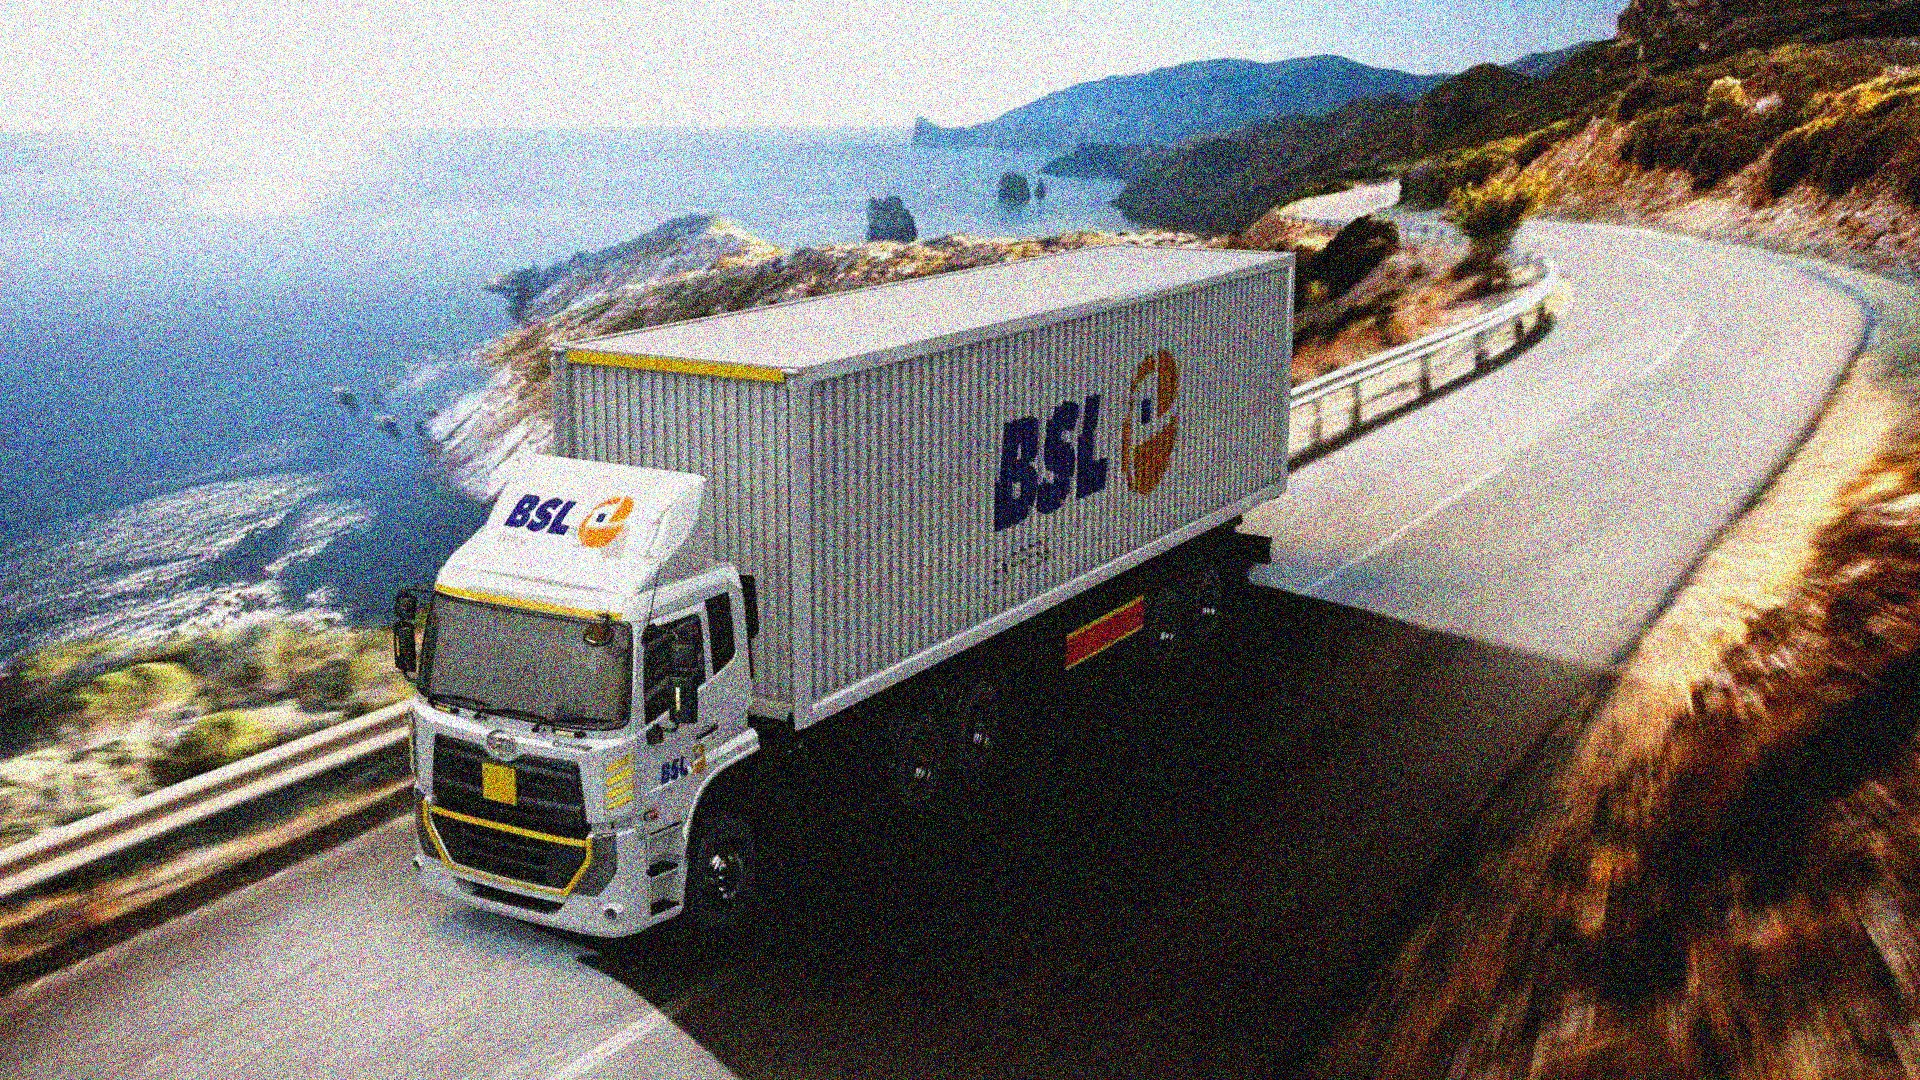truck: (409, 247, 1298, 951)
